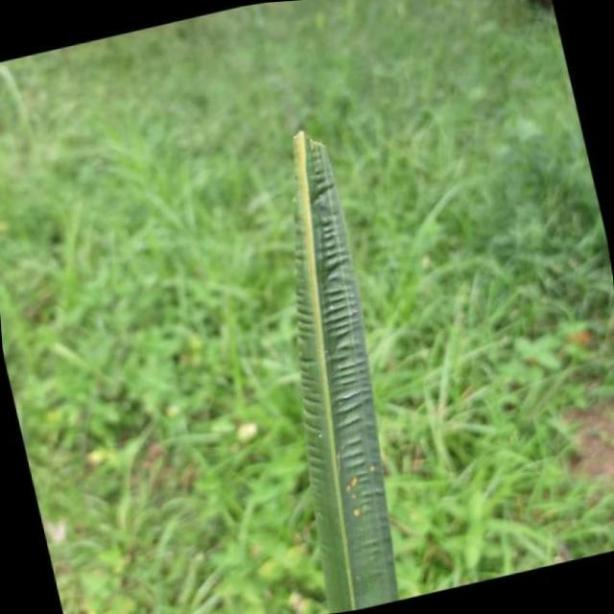Boron: (290, 129, 401, 614)
